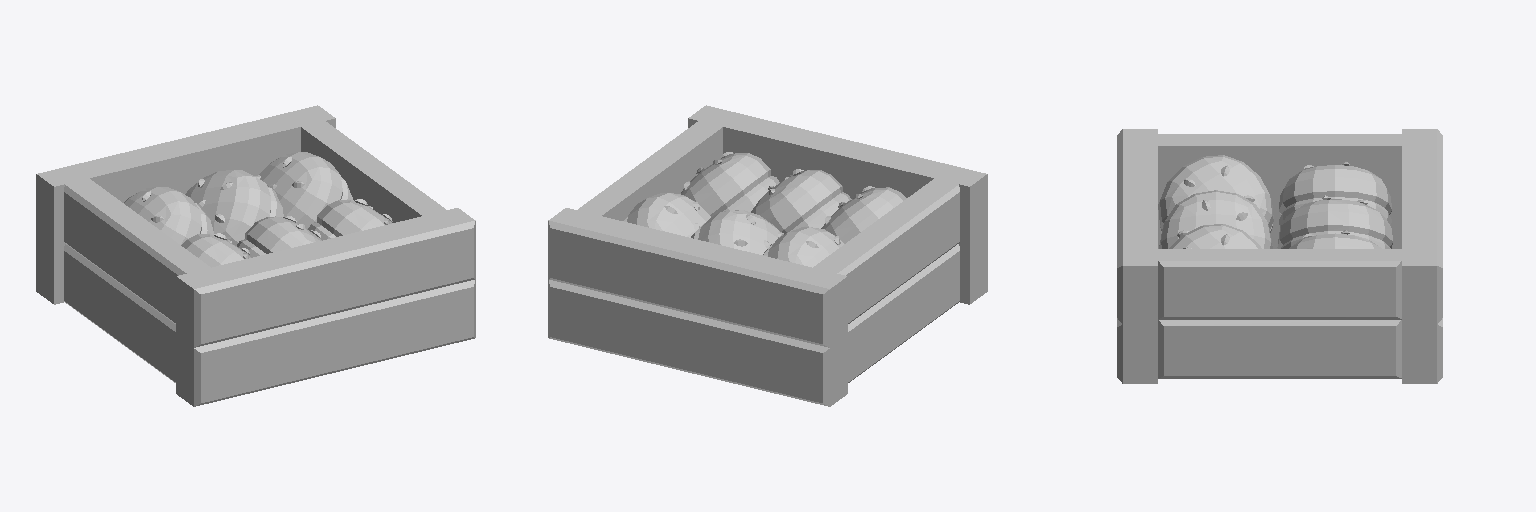
The model's file is crate_buns.obj.
3 renders of one model, left to right at view 1: azimuth 30°, elevation 25°; view 2: azimuth 150°, elevation 25°; view 3: azimuth 270°, elevation 25°, orthographic.
Visible parts, largest first — view 1: crate_buns_Cube.233; view 2: crate_buns_Cube.233; view 3: crate_buns_Cube.233.
Part boxes in pixels (left/top/right/bottom): crate_buns_Cube.233: left=36, top=105, right=475, bottom=406; crate_buns_Cube.233: left=548, top=105, right=987, bottom=406; crate_buns_Cube.233: left=1117, top=129, right=1442, bottom=383.
Size of the model in its own units: 2 by 0.8024 by 2.